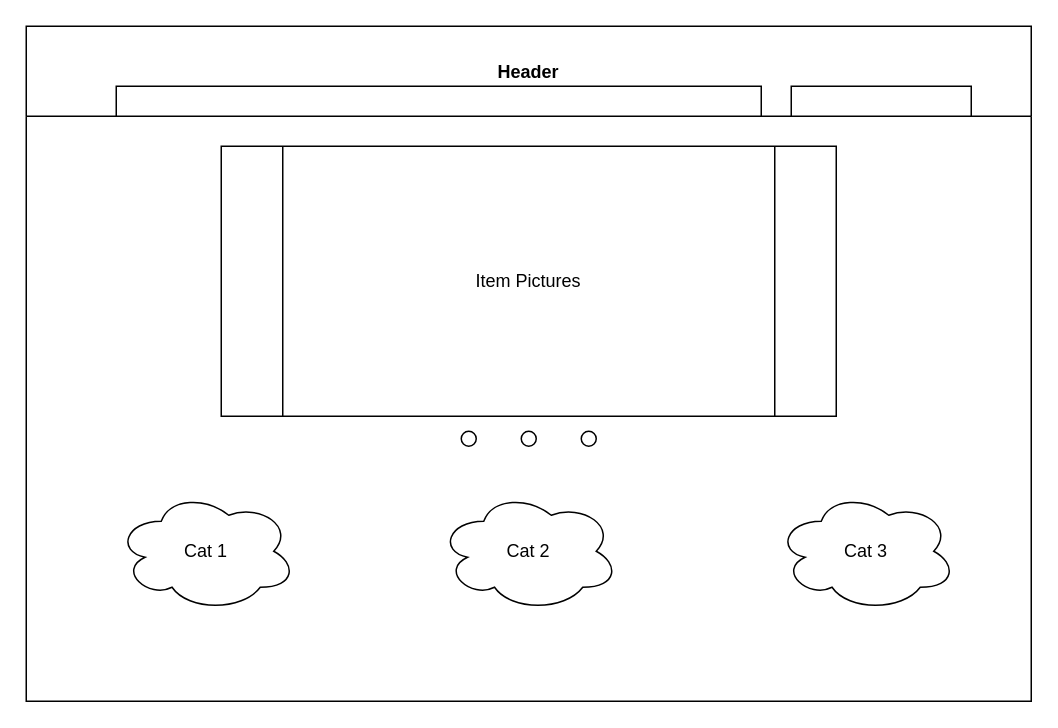
The diagram is 1058 pixels wide and 728 high, and some of its shapes have lost their labels. Here are the shapes that lost their labels. From the top down, the box of each, then its label:
(115, 85, 761, 116): Navbar
(790, 85, 971, 116): Search bar
